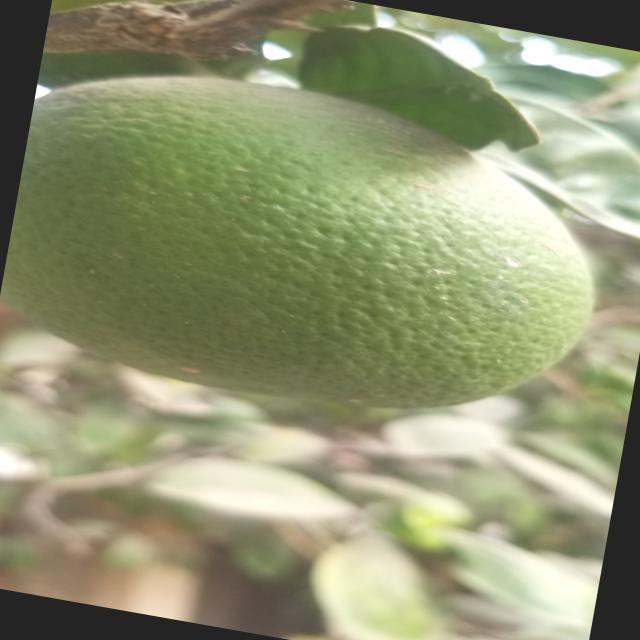agrume: (0, 46, 615, 448)
